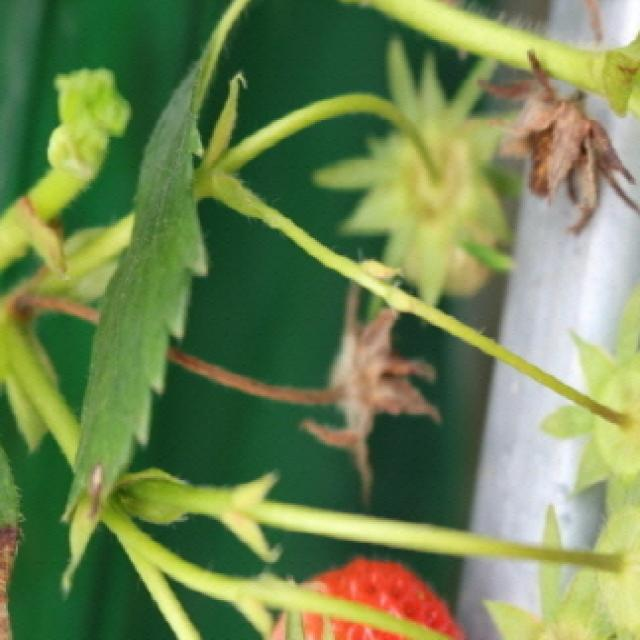Gray Mold: (285, 282, 439, 499), (476, 50, 640, 237)
